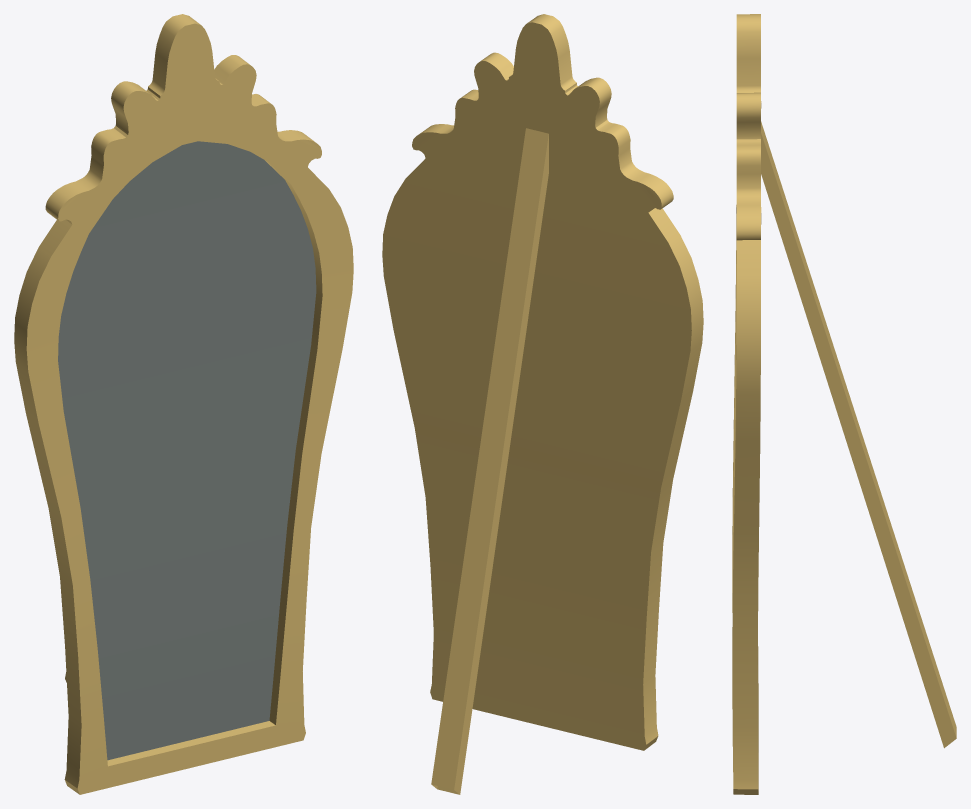
The model's file is props_mirror.fbx.
The picture shows the model from 3 angles, left to right: view 1: azimuth 30°, elevation 25°; view 2: azimuth 150°, elevation 25°; view 3: azimuth 270°, elevation 25°; orthographic projection. The views are drawn at different scales.
Visible parts, largest first — view 1: miroir.001; view 2: miroir.001; view 3: miroir.001.
Boxes of the visible parts, box(x1,y1,x2,y2) form: miroir.001: box(14, 14, 353, 794); miroir.001: box(382, 14, 703, 794); miroir.001: box(732, 14, 956, 794).
Size of the model in its own units: 1.8 by 1.1 by 3.92.
